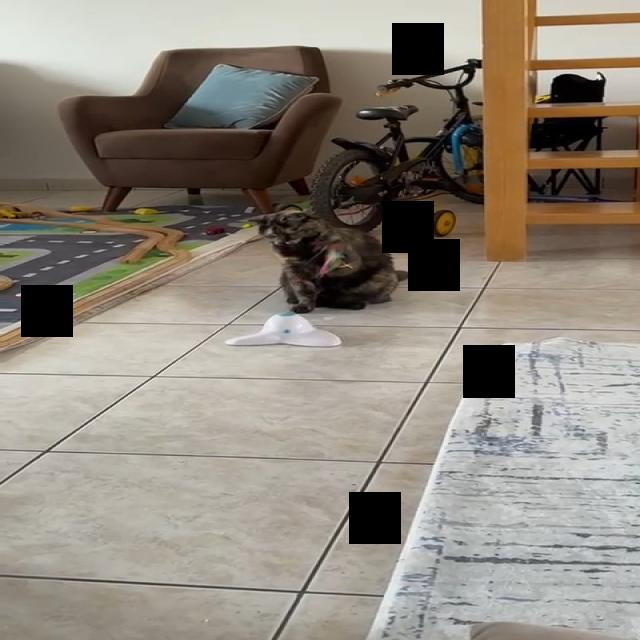authorized: (247, 202, 410, 313)
